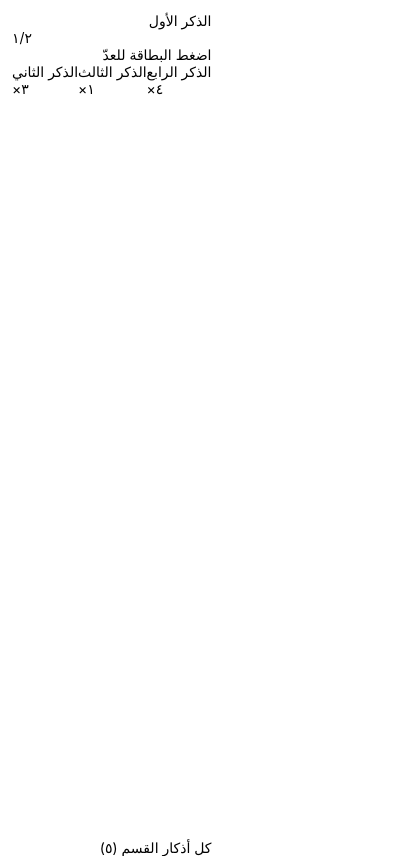
Test case: AdhkarFlow › shows the active track, three upcoming items, and the complete reference
Click the button with test id "adhkar-flow-reference-toggle": (112, 848) [12, 839, 212, 855]
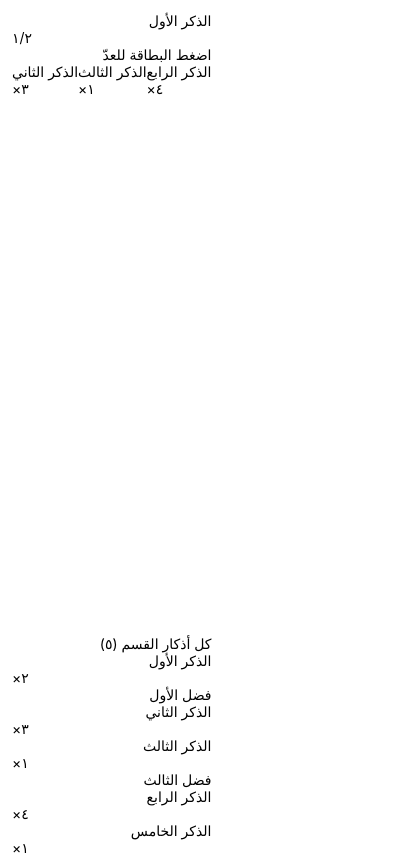
Expected: the element with test id "adhkar-flow-reference" is shown, [12, 652, 212, 855]
Expected: the text "فضل الأول" is shown, [149, 686, 212, 703]
Expected: the text "فضل الثالث" is shown, [144, 771, 212, 788]
